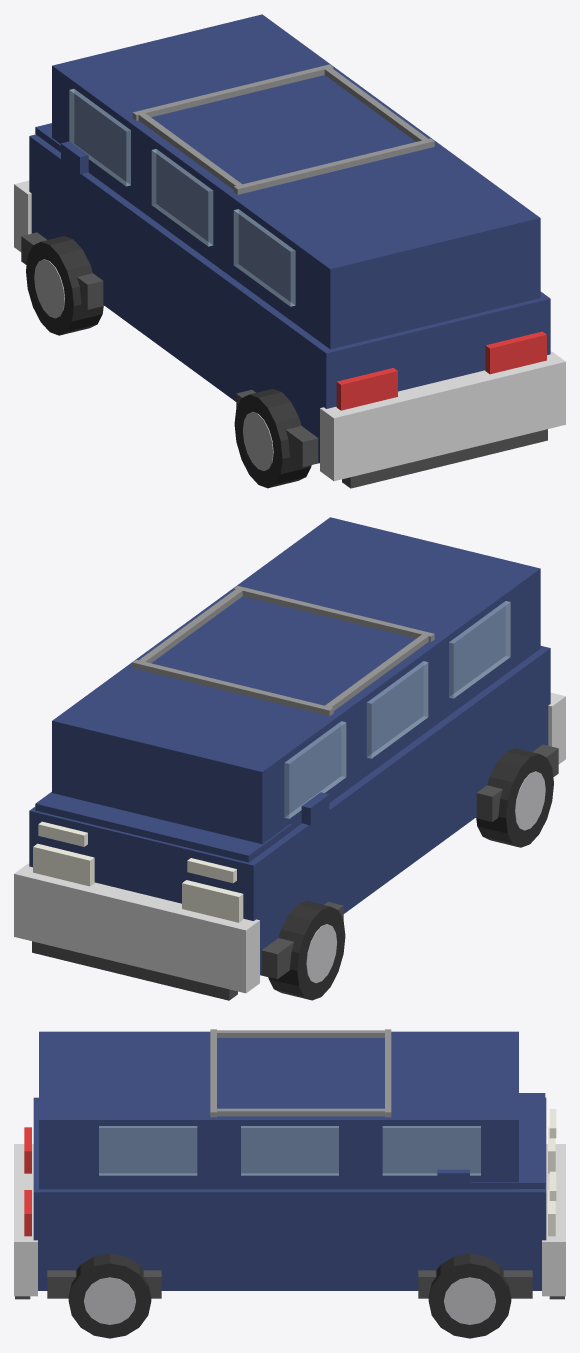
File: Suv.fbx
The picture shows the model from 3 angles, top to bottom: view 1: azimuth 30°, elevation 25°; view 2: azimuth 150°, elevation 25°; view 3: azimuth 270°, elevation 25°; orthographic projection. The views are drawn at different scales.
Parts seen in each view (by area): view 1: SUV_Upper, SUV_Body, SUV_BumpR, SUV_Tire_FL, SUV_Tire_RL, SUV_WinC_L, SUV_WinB_L, SUV_WinA_L, SUV_SkidR, SUV_RackBar2, SUV_RackBar1, SUV_FaroR_L (+9 smaller); view 2: SUV_Upper, SUV_Body, SUV_BumpF, SUV_Hood, SUV_Tire_RL, SUV_Tire_FL, SUV_WinB_L, SUV_WinC_L, SUV_WinA_L, SUV_SkidF, SUV_RackBar1, SUV_RackBar2 (+12 smaller); view 3: SUV_Upper, SUV_Body, SUV_WinC_R, SUV_WinB_R, SUV_WinA_R, SUV_Tire_FR, SUV_Tire_RR, SUV_Hood, SUV_BumpR, SUV_BumpF, SUV_Rim_FR, SUV_Rim_RR (+7 smaller).
Part boxes in pixels (x1,y1,x2,y2): SUV_Upper: [52, 14, 540, 349]; SUV_Body: [29, 134, 550, 462]; SUV_BumpR: [320, 351, 565, 481]; SUV_Tire_FL: [26, 236, 103, 335]; SUV_Tire_RL: [234, 389, 311, 488]; SUV_WinC_L: [233, 209, 295, 306]; SUV_WinB_L: [151, 149, 213, 246]; SUV_WinA_L: [69, 89, 130, 186]; SUV_SkidR: [342, 429, 547, 488]; SUV_RackBar2: [233, 138, 434, 194]; SUV_RackBar1: [132, 64, 333, 120]; SUV_FaroR_L: [336, 368, 397, 410]; SUV_Upper: [52, 517, 540, 844]; SUV_Body: [29, 646, 550, 975]; SUV_BumpF: [14, 863, 259, 993]; SUV_Hood: [35, 792, 291, 862]; SUV_Tire_RL: [476, 748, 553, 847]; SUV_Tire_FL: [268, 901, 345, 1000]; SUV_WinB_L: [366, 661, 428, 758]; SUV_WinC_L: [449, 601, 510, 698]; SUV_WinA_L: [284, 721, 346, 818]; SUV_SkidF: [32, 941, 237, 1000]; SUV_RackBar1: [132, 660, 333, 716]; SUV_RackBar2: [233, 585, 434, 642]; SUV_Upper: [39, 1031, 518, 1189]; SUV_Body: [33, 1097, 546, 1290]; SUV_WinC_R: [99, 1126, 197, 1175]; SUV_WinB_R: [241, 1126, 338, 1175]; SUV_WinA_R: [382, 1126, 480, 1175]; SUV_Tire_FR: [428, 1253, 511, 1338]; SUV_Tire_RR: [68, 1253, 151, 1338]; SUV_Hood: [471, 1093, 545, 1188]; SUV_BumpR: [14, 1144, 37, 1296]; SUV_BumpF: [542, 1144, 565, 1296]; SUV_Rim_FR: [444, 1277, 495, 1324]; SUV_Rim_RR: [84, 1277, 135, 1324].
Bounding box in the file's own units: 249 × 213 × 506.
